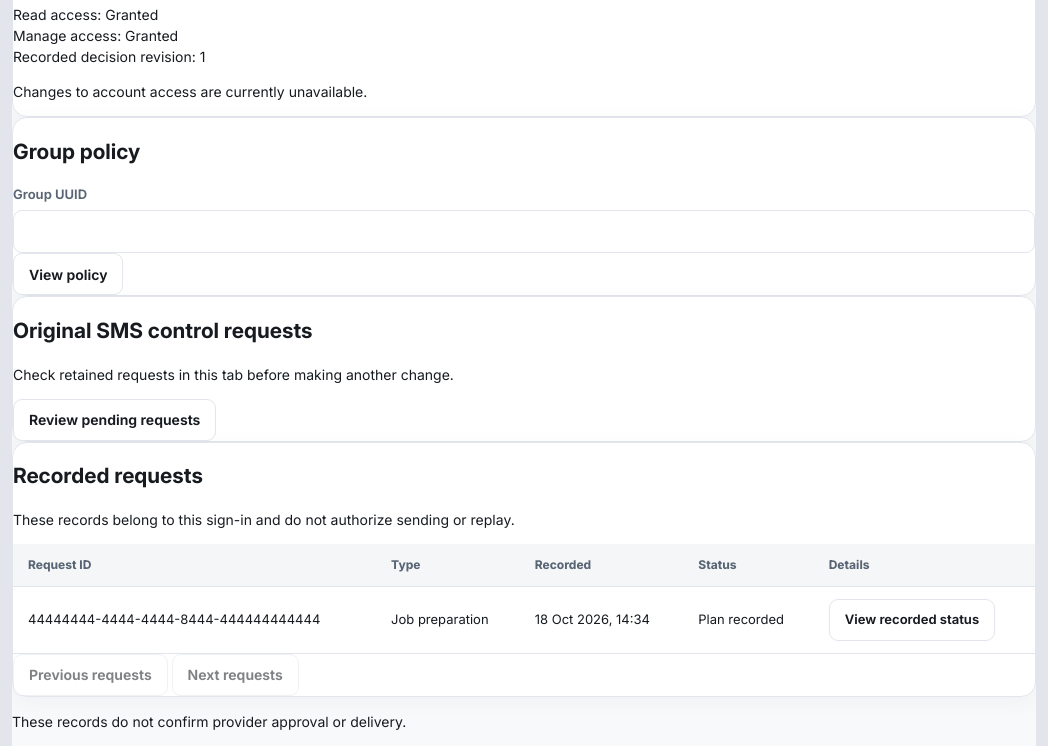
Test: read-only bounded job preparation status › opens only an authenticated, original-session history status via GET
(page scrolled)
Click the button "View recorded status". click: (912, 620)
box: [829, 599, 995, 641]
(page scrolled)
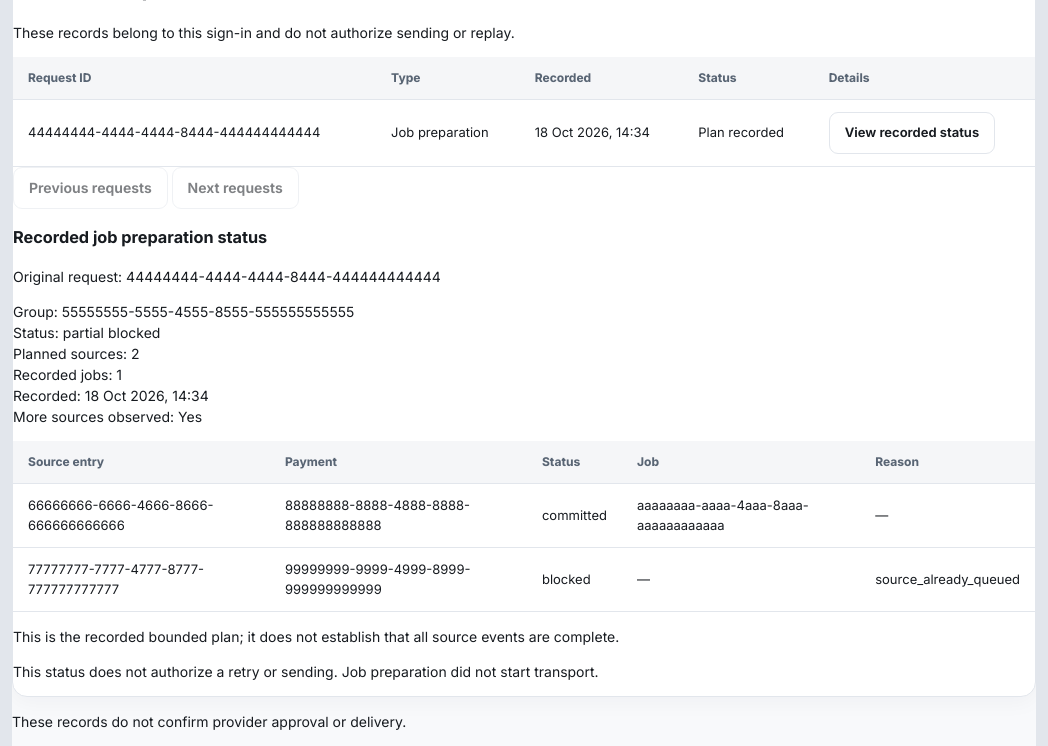
Now the heading "Recorded job preparation status" is shown, box [13, 227, 267, 247]
Now the text "Recorded jobs: 1" is shown, box [13, 303, 354, 425]
Now the text "source_already_queued" is shown, box [860, 548, 1035, 612]
